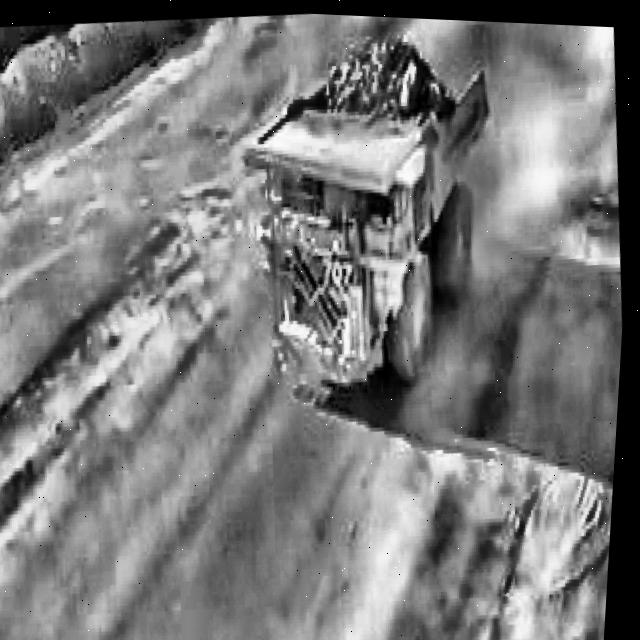dump_truck: (221, 8, 514, 411)
